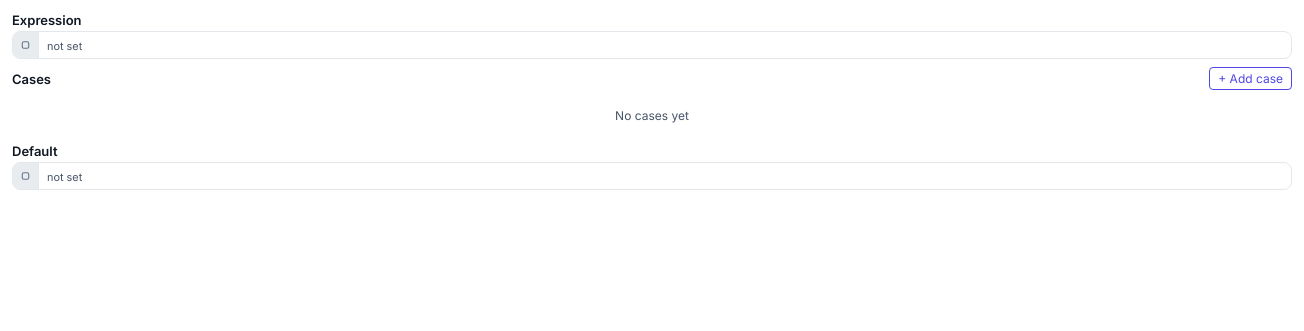
SwitchEditor › removes a case and hides the When/Then fields again
This screenshot has width=1304, height=331.
Click the button "+ Add case" at (1251, 78), box x1=1209 y1=67 x2=1292 y2=90
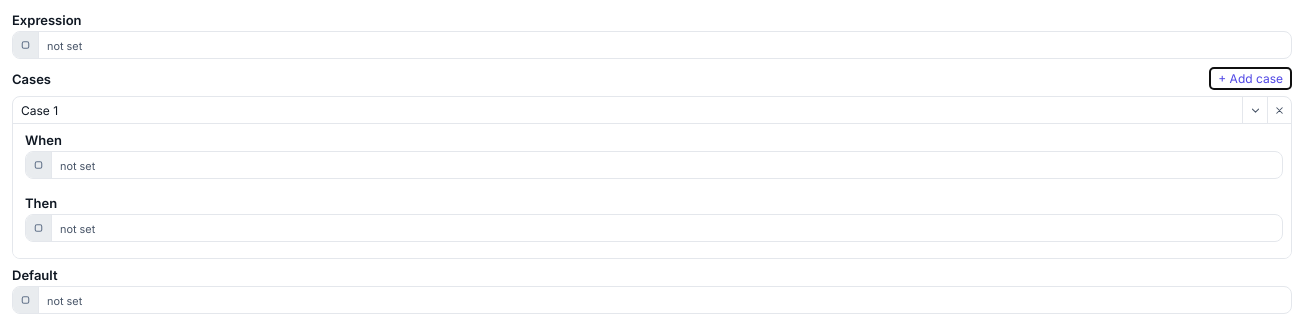
expect the text "When" is shown: met, box x1=25 y1=132 x2=62 y2=148
Click the button named "Remove case" at (1279, 110), box x1=1267 y1=97 x2=1291 y2=123
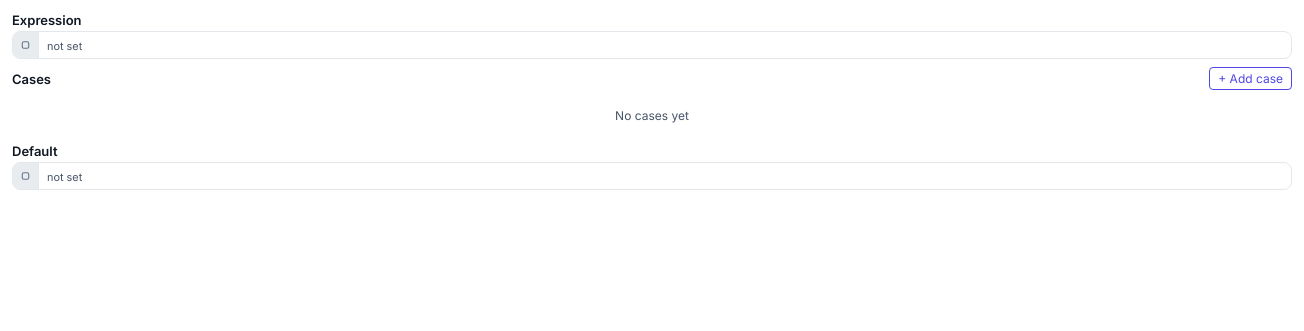
expect the text "When" is gone: met
expect the text "No cases yet" is shown: met, box x1=615 y1=108 x2=689 y2=123
